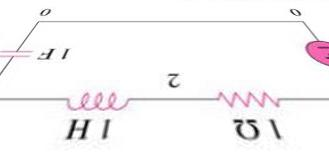inductor: (45, 84, 143, 114)
